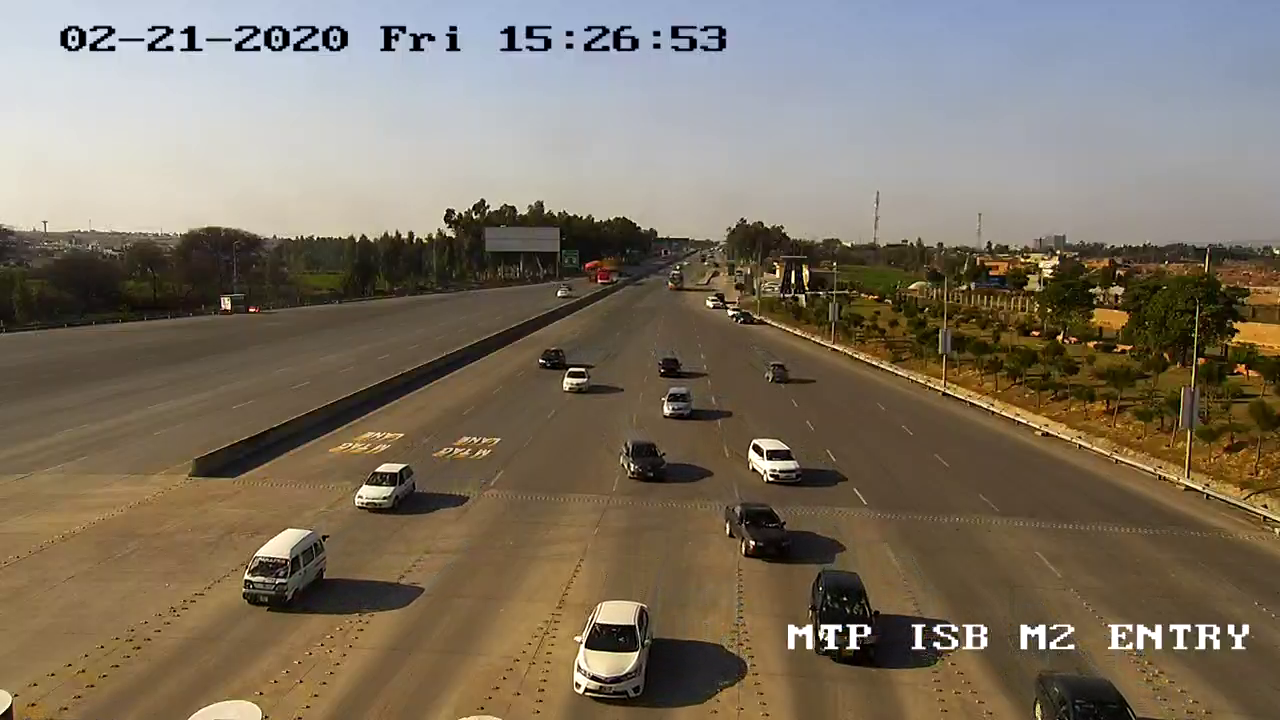f1: (560, 595, 665, 704), (236, 524, 333, 615), (711, 496, 803, 567), (351, 456, 421, 517), (742, 433, 812, 492), (615, 430, 677, 492)
